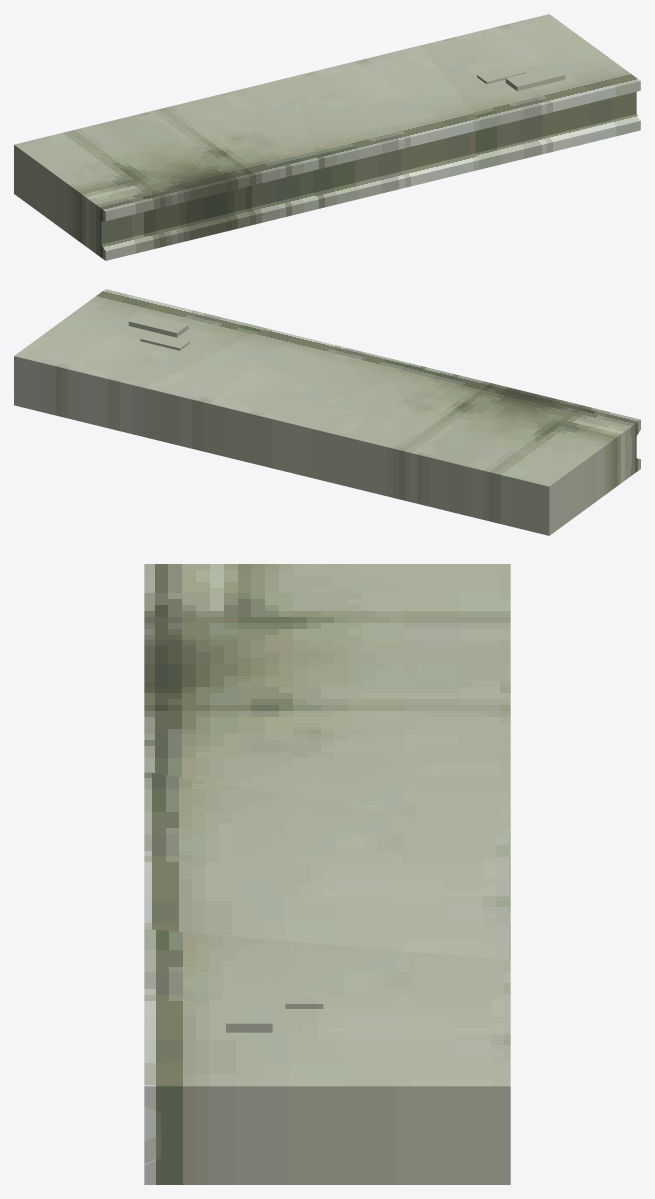
File: 205_solidwall.gltf
The picture shows the model from 3 angles, top to bottom: view 1: azimuth 30°, elevation 25°; view 2: azimuth 150°, elevation 25°; view 3: azimuth 270°, elevation 25°; orthographic projection. The views are drawn at different scales.
Visible parts, largest first — view 1: solidwall; view 2: solidwall; view 3: solidwall.
Boxes of the visible parts, x1,y1,x2,y2 form: solidwall: (14, 14, 640, 260); solidwall: (14, 289, 640, 535); solidwall: (144, 564, 510, 1184).
Bounding box in the file's own units: 18.43 × 1.77 × 5.46.
1 material, 1 textured.
